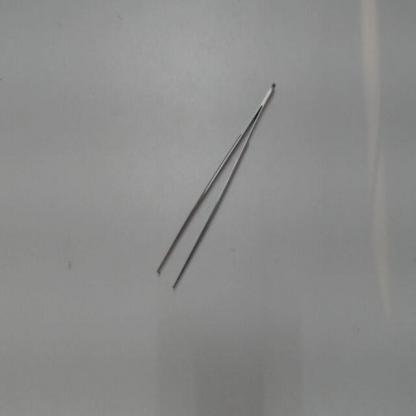Gillies Toothed Dissector: (140, 74, 290, 312)
